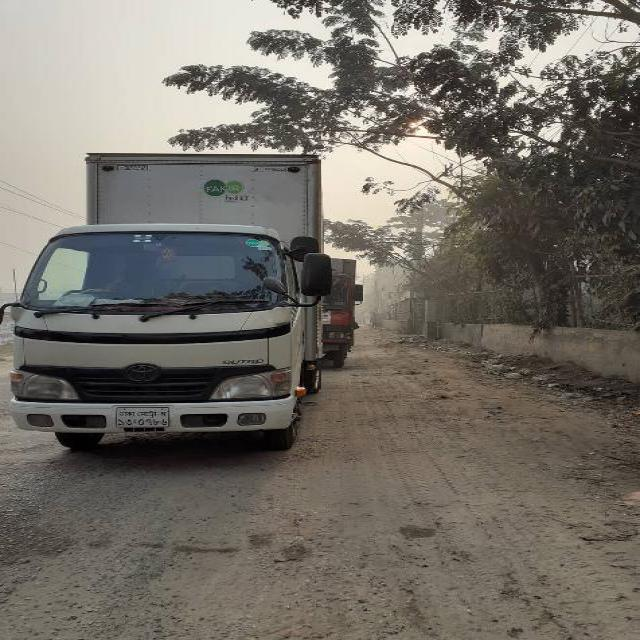vehicle: (13, 151, 325, 451), (325, 257, 357, 368)
